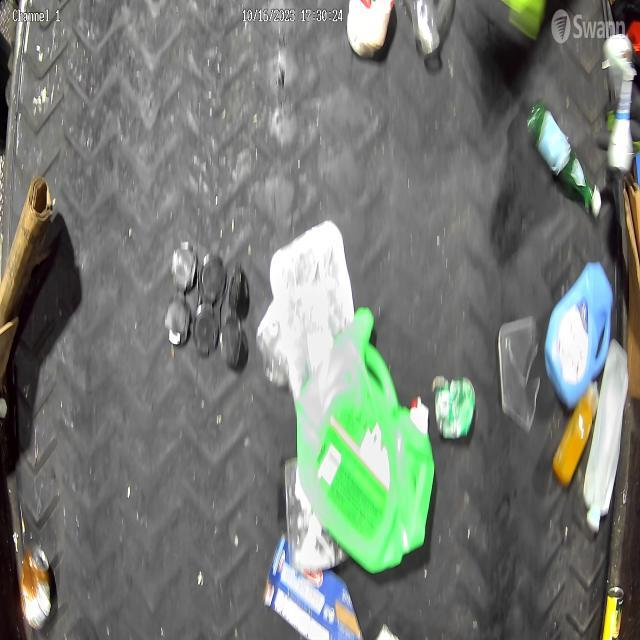can: (12, 535, 58, 640), (432, 357, 480, 448)
non_white_jug: (292, 304, 432, 574), (542, 251, 618, 412)
plastic_bottle: (520, 98, 603, 216), (584, 339, 628, 536)
